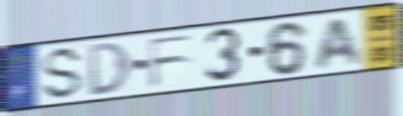3: (200, 25, 248, 85)
6: (265, 19, 310, 77)
A: (312, 15, 365, 73)
D: (85, 40, 134, 98)
F: (146, 32, 197, 91)
S: (39, 44, 86, 103)
